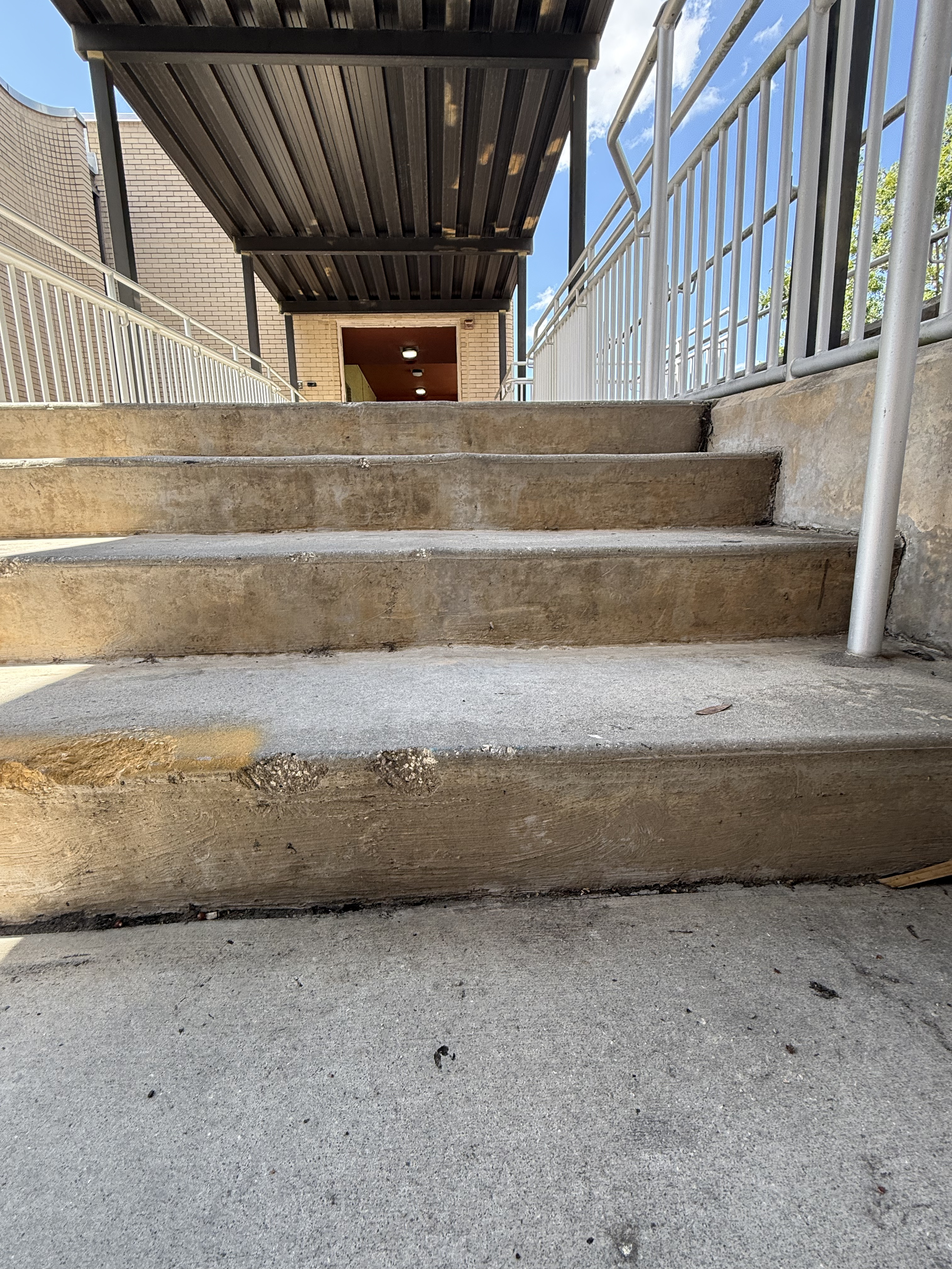stairs: (2, 404, 952, 930)
